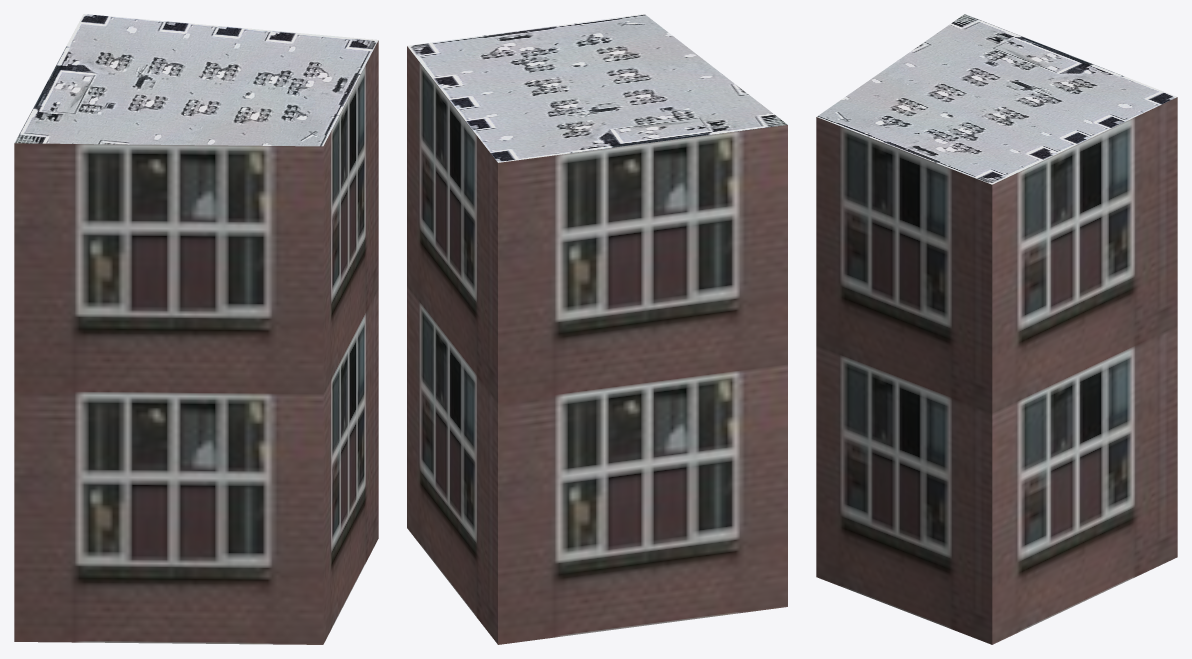
The model's file is ResTex__3151.fbx.
3 renders of one model, left to right at view 1: azimuth 30°, elevation 25°; view 2: azimuth 150°, elevation 25°; view 3: azimuth 270°, elevation 25°, orthographic. The views are drawn at different scales.
Parts seen in each view (by area): view 1: CityEngineMaterial_12_m, CityEngineMaterial_4_m; view 2: CityEngineMaterial_12_m, CityEngineMaterial_4_m; view 3: CityEngineMaterial_12_m, CityEngineMaterial_4_m.
Boxes of the visible parts, <box> form: CityEngineMaterial_12_m: <box>14,40,378,644</box>; CityEngineMaterial_4_m: <box>14,14,378,146</box>; CityEngineMaterial_12_m: <box>407,46,787,644</box>; CityEngineMaterial_4_m: <box>407,14,787,162</box>; CityEngineMaterial_12_m: <box>816,97,1177,644</box>; CityEngineMaterial_4_m: <box>817,14,1176,184</box>.
Bounding box in the file's own units: 4.77 × 6 × 4.27.
2 materials, 2 textured.
